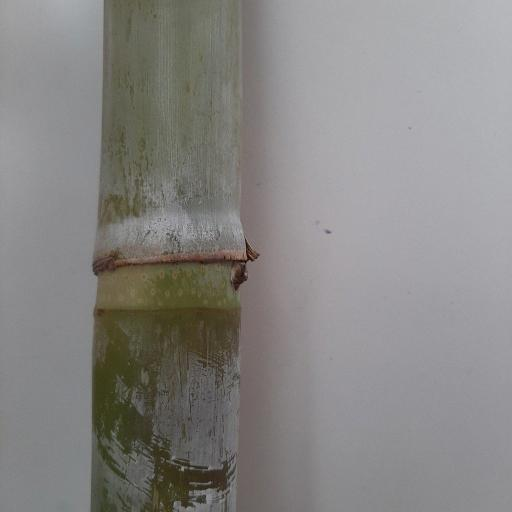Bud: (231, 259, 247, 289)
